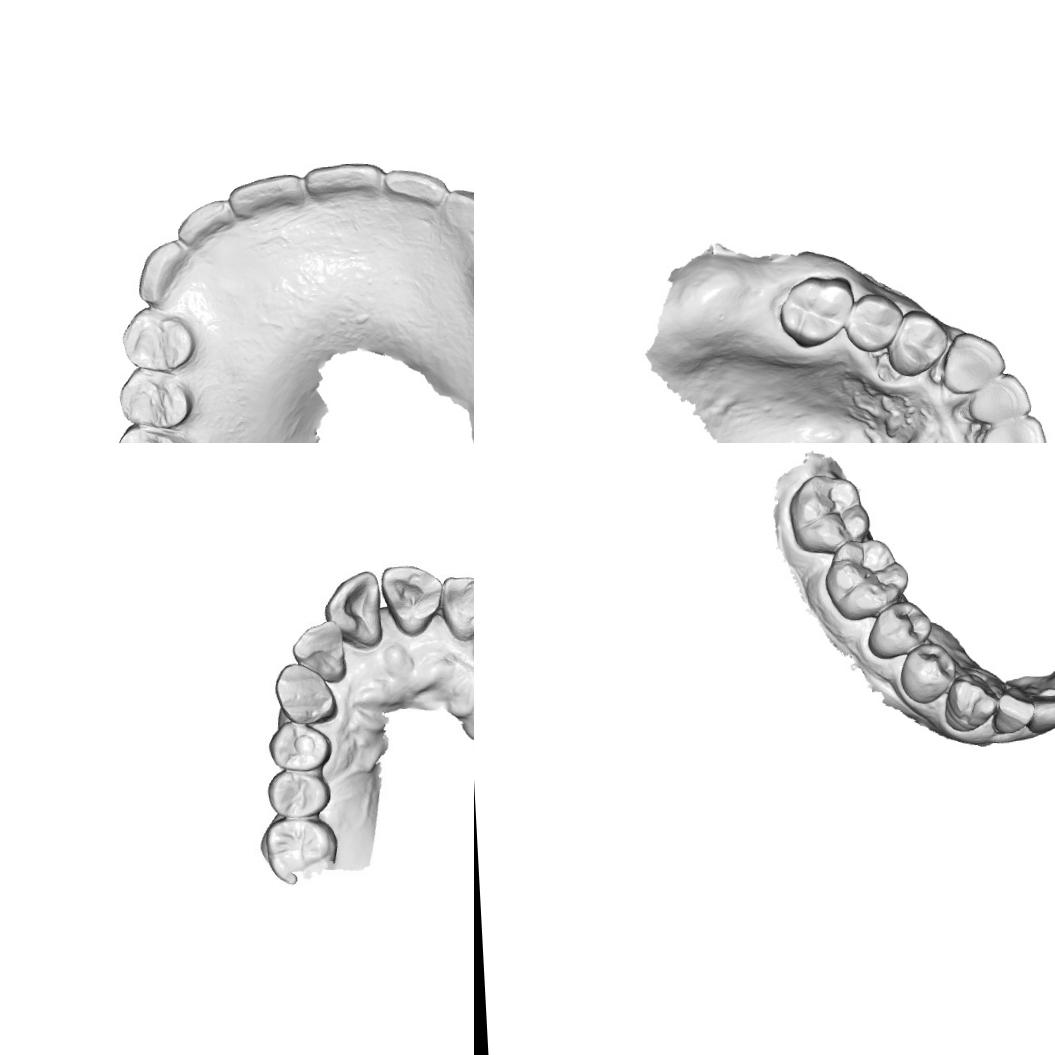canine: (939, 327, 1007, 397), (272, 659, 340, 728), (134, 238, 188, 306), (942, 672, 997, 733), (442, 186, 474, 256)
incisor: (378, 560, 446, 638), (320, 568, 382, 650), (302, 161, 388, 213), (225, 176, 306, 228), (289, 617, 348, 686), (964, 370, 1032, 428), (176, 199, 234, 256), (384, 164, 446, 215), (437, 572, 474, 643), (989, 687, 1034, 740), (974, 413, 1050, 443), (1026, 693, 1055, 738)
molar: (823, 534, 910, 622), (788, 470, 870, 556), (776, 272, 856, 350), (260, 815, 342, 888), (110, 421, 196, 443)
premolar: (120, 304, 195, 374), (116, 364, 192, 432), (885, 307, 951, 378), (861, 598, 934, 661), (842, 288, 902, 354), (266, 718, 333, 772), (263, 769, 335, 819), (898, 646, 952, 703)
